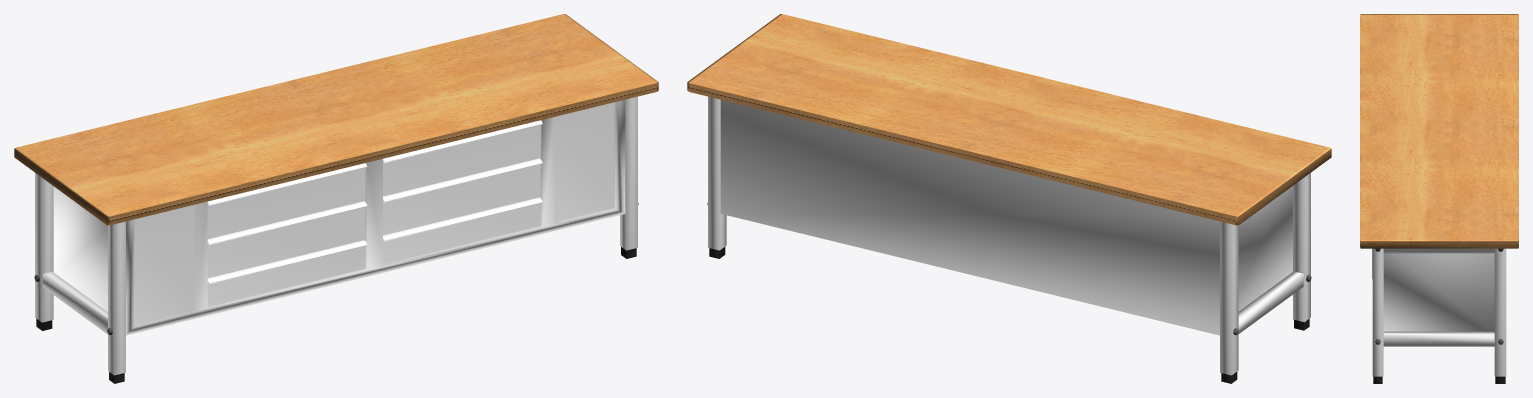
The model's file is werkbank.fbx.
3 views of the same model, side by side, from view 1: azimuth 30°, elevation 25°; view 2: azimuth 150°, elevation 25°; view 3: azimuth 270°, elevation 25° (orthographic). The views are drawn at different scales.
Visible parts, largest first — view 1: Mesh; view 2: Mesh; view 3: Mesh.
Boxes of the visible parts, x1,y1,x2,y2 form: Mesh: (14, 14, 658, 383); Mesh: (687, 14, 1331, 383); Mesh: (1360, 14, 1518, 383).
Bounding box in the file's own units: 259 × 79.1 × 76.55.
